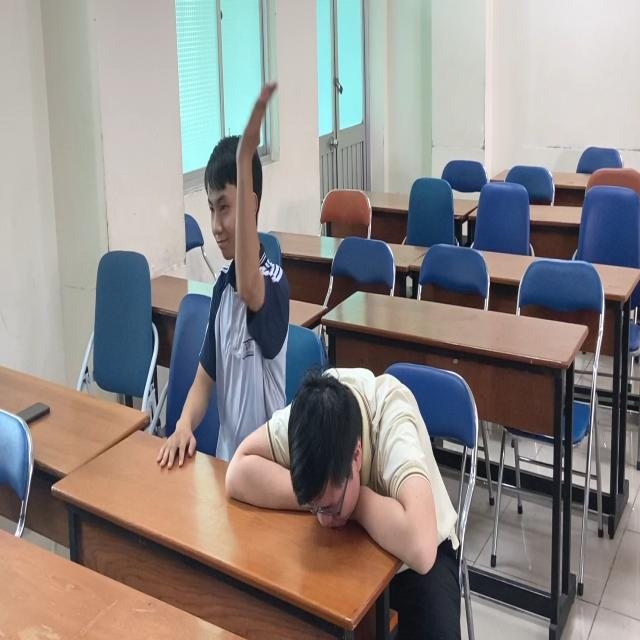raise_hand: (173, 76, 291, 461)
sleep: (227, 373, 474, 579)
